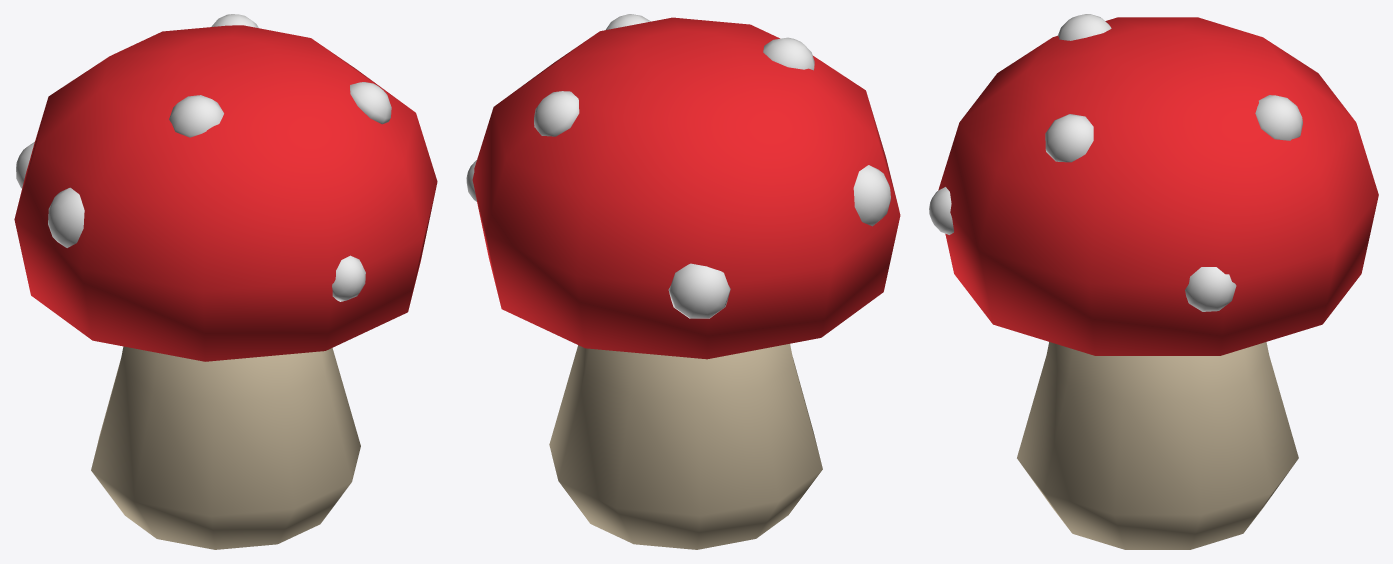
The model's file is Mushroom_FlyAgaric_Red_3.fbx.
The picture shows the model from 3 angles, left to right: view 1: azimuth 30°, elevation 25°; view 2: azimuth 150°, elevation 25°; view 3: azimuth 270°, elevation 25°; orthographic projection. The views are drawn at different scales.
Visible parts, largest first — view 1: Cylinder.526, Cylinder.525, Cylinder.519; view 2: Cylinder.526, Cylinder.525, Cylinder.519; view 3: Cylinder.526, Cylinder.525, Cylinder.519.
Boxes of the visible parts, x1=… form: Cylinder.526: x1=14, y1=25, x2=437, y2=361; Cylinder.525: x1=91, y1=346, x2=360, y2=549; Cylinder.519: x1=16, y1=14, x2=391, y2=301; Cylinder.526: x1=472, y1=17, x2=900, y2=359; Cylinder.525: x1=549, y1=344, x2=822, y2=549; Cylinder.519: x1=466, y1=14, x2=890, y2=318; Cylinder.526: x1=938, y1=17, x2=1378, y2=355; Cylinder.525: x1=1017, y1=342, x2=1298, y2=549; Cylinder.519: x1=929, y1=14, x2=1302, y2=311.
Size of the model in its own units: 81.5 by 93.68 by 83.14.
